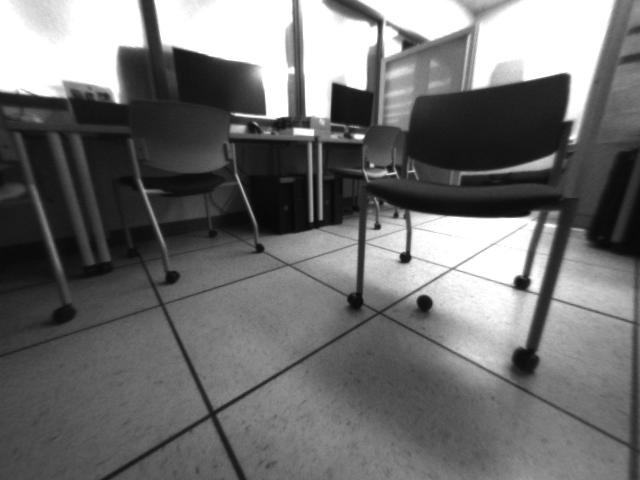dogtoy: (410, 289, 438, 315)
